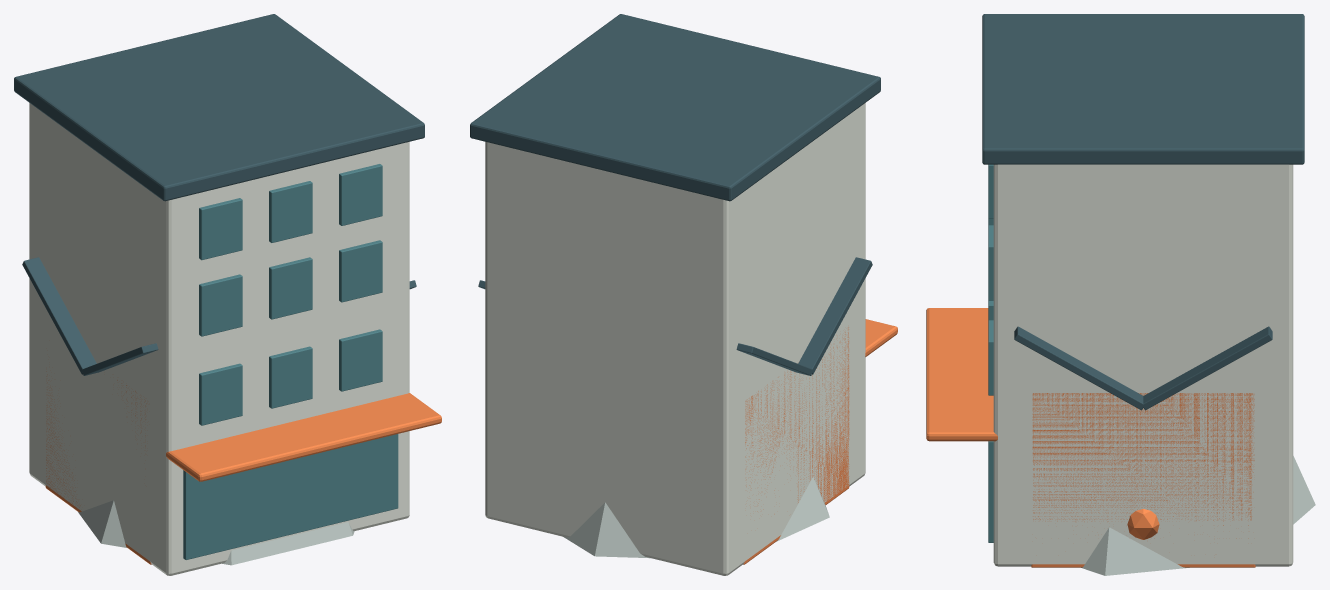
File: move-lab.glb
3 renders of one model, left to right at view 1: azimuth 30°, elevation 25°; view 2: azimuth 150°, elevation 25°; view 3: azimuth 270°, elevation 25°, orthographic. The views are drawn at different scales.
Visible parts, largest first — view 1: Brick building, Roof, Shop front, Awning, Mountain, Window.006, Window, Window.001, Window.002, Window.003, Window.004, Window.007 (+5 smaller); view 2: Brick building, Roof, Barn wall, Mountain, Barn roof, Barn roof.001, Awning; view 3: Brick building, Roof, Barn wall, Awning, Mountain, Barn roof, Barn roof.001, Nose cone, Shop front.
Boxes of the visible parts, left/top/right/bottom form: Brick building: left=29, top=103, right=409, bottom=575; Roof: left=14, top=14, right=424, bottom=201; Shop front: left=183, top=434, right=398, bottom=559; Awning: left=166, top=393, right=441, bottom=481; Mountain: left=78, top=500, right=354, bottom=565; Window.006: left=339, top=329, right=382, bottom=391; Window: left=199, top=363, right=242, bottom=425; Window.001: left=199, top=274, right=242, bottom=336; Window.002: left=199, top=198, right=242, bottom=260; Window.003: left=269, top=346, right=312, bottom=408; Window.004: left=269, top=257, right=312, bottom=319; Window.007: left=339, top=240, right=382, bottom=302; Brick building: left=485, top=103, right=865, bottom=575; Roof: left=470, top=14, right=880, bottom=201; Barn wall: left=743, top=327, right=849, bottom=564; Mountain: left=563, top=477, right=829, bottom=558; Barn roof: left=798, top=257, right=872, bottom=374; Barn roof.001: left=478, top=280, right=812, bottom=375; Awning: left=865, top=319, right=897, bottom=356; Brick building: left=993, top=164, right=1293, bottom=566; Roof: left=982, top=14, right=1304, bottom=164; Barn wall: left=1031, top=393, right=1255, bottom=567; Awning: left=926, top=308, right=997, bottom=441; Mountain: left=1081, top=456, right=1315, bottom=575; Barn roof: left=1014, top=326, right=1144, bottom=410; Barn roof.001: left=1143, top=326, right=1272, bottom=410; Nose cone: left=1127, top=509, right=1159, bottom=539; Shop front: left=988, top=441, right=993, bottom=542.
Bounding box in the file's own units: 4.5 × 6.54 × 5.2.
